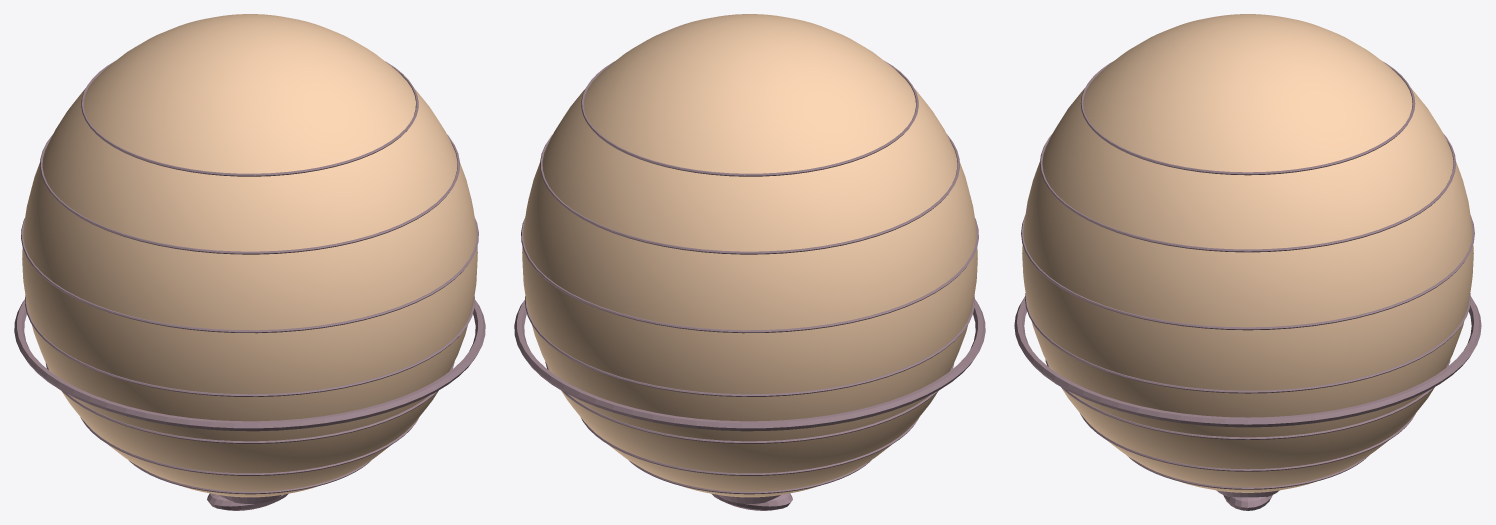
The model's file is airship.glb.
3 views of the same model, side by side, from view 1: azimuth 30°, elevation 25°; view 2: azimuth 150°, elevation 25°; view 3: azimuth 270°, elevation 25° (orthographic).
Visible parts, largest first — view 1: Airship_Envelope, Airship_Equatorial_Gallery, Airship_Latitude.004, Airship_Latitude.005, Airship_Latitude.003, Airship_Latitude.006, Airship_Latitude.002, Airship_Latitude.001, Airship_Latitude, Airship_Gondola; view 2: Airship_Envelope, Airship_Equatorial_Gallery, Airship_Latitude.004, Airship_Latitude.005, Airship_Latitude.003, Airship_Latitude.006, Airship_Latitude.002, Airship_Latitude.001, Airship_Latitude, Airship_Gondola; view 3: Airship_Envelope, Airship_Equatorial_Gallery, Airship_Latitude.004, Airship_Latitude.005, Airship_Latitude.003, Airship_Latitude.006, Airship_Latitude.002, Airship_Latitude.001, Airship_Latitude.
Part boxes in pixels (x1,y1,x2,y2): Airship_Envelope: [22, 14, 477, 497]; Airship_Equatorial_Gallery: [14, 299, 485, 431]; Airship_Latitude.004: [21, 218, 478, 333]; Airship_Latitude.005: [40, 134, 459, 254]; Airship_Latitude.003: [25, 295, 474, 396]; Airship_Latitude.006: [81, 61, 418, 176]; Airship_Latitude.002: [45, 362, 454, 443]; Airship_Latitude.001: [80, 417, 418, 475]; Airship_Latitude: [128, 460, 370, 494]; Airship_Gondola: [207, 493, 288, 510]; Airship_Envelope: [522, 14, 977, 497]; Airship_Equatorial_Gallery: [514, 299, 985, 431]; Airship_Latitude.004: [521, 218, 978, 333]; Airship_Latitude.005: [540, 134, 959, 254]; Airship_Latitude.003: [525, 295, 974, 396]; Airship_Latitude.006: [581, 61, 918, 176]; Airship_Latitude.002: [545, 362, 954, 443]; Airship_Latitude.001: [581, 417, 919, 475]; Airship_Latitude: [629, 460, 871, 494]; Airship_Gondola: [711, 493, 792, 510]; Airship_Envelope: [1022, 14, 1473, 492]; Airship_Equatorial_Gallery: [1014, 297, 1481, 427]; Airship_Latitude.004: [1021, 215, 1474, 330]; Airship_Latitude.005: [1040, 134, 1455, 252]; Airship_Latitude.003: [1025, 293, 1470, 393]; Airship_Latitude.006: [1080, 61, 1415, 175]; Airship_Latitude.002: [1045, 359, 1450, 439]; Airship_Latitude.001: [1080, 413, 1415, 471]; Airship_Latitude: [1128, 456, 1367, 489].
Bounding box in the file's own units: 8.48 × 9.34 × 8.48.
